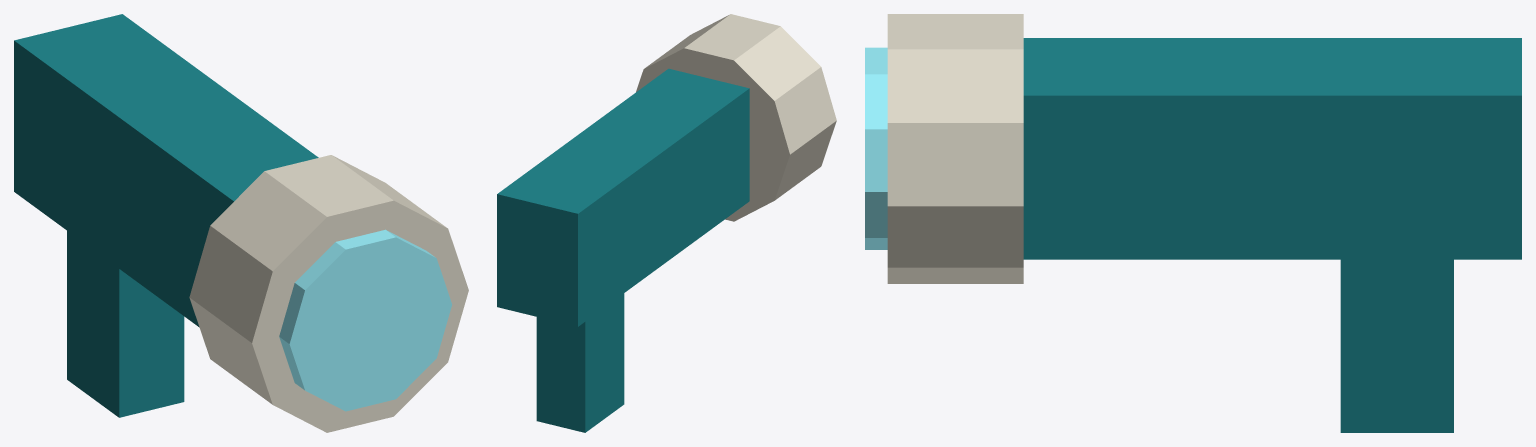
Rendered from item_F1_PurgeEmitter.obj.
3 renders of one model, left to right at view 1: azimuth 30°, elevation 25°; view 2: azimuth 150°, elevation 25°; view 3: azimuth 270°, elevation 25°, orthographic. The views are drawn at different scales.
Parts seen in each view (by area): view 1: Item_F1_PurgeEmitter, Item_F1_PurgeEmitter_Dish, Item_F1_PurgeEmitter_Field; view 2: Item_F1_PurgeEmitter, Item_F1_PurgeEmitter_Dish; view 3: Item_F1_PurgeEmitter, Item_F1_PurgeEmitter_Dish, Item_F1_PurgeEmitter_Field.
Boxes of the visible parts, <box> form: Item_F1_PurgeEmitter: <box>14,14,318,417</box>; Item_F1_PurgeEmitter_Dish: <box>189,155,468,432</box>; Item_F1_PurgeEmitter_Field: <box>279,229,452,411</box>; Item_F1_PurgeEmitter: <box>497,68,749,432</box>; Item_F1_PurgeEmitter_Dish: <box>636,14,836,221</box>; Item_F1_PurgeEmitter: <box>1023,38,1521,432</box>; Item_F1_PurgeEmitter_Dish: <box>887,14,1023,283</box>; Item_F1_PurgeEmitter_Field: <box>865,47,887,249</box>.
Bounding box in the file's own units: 0.12 × 0.1871 × 0.29.
